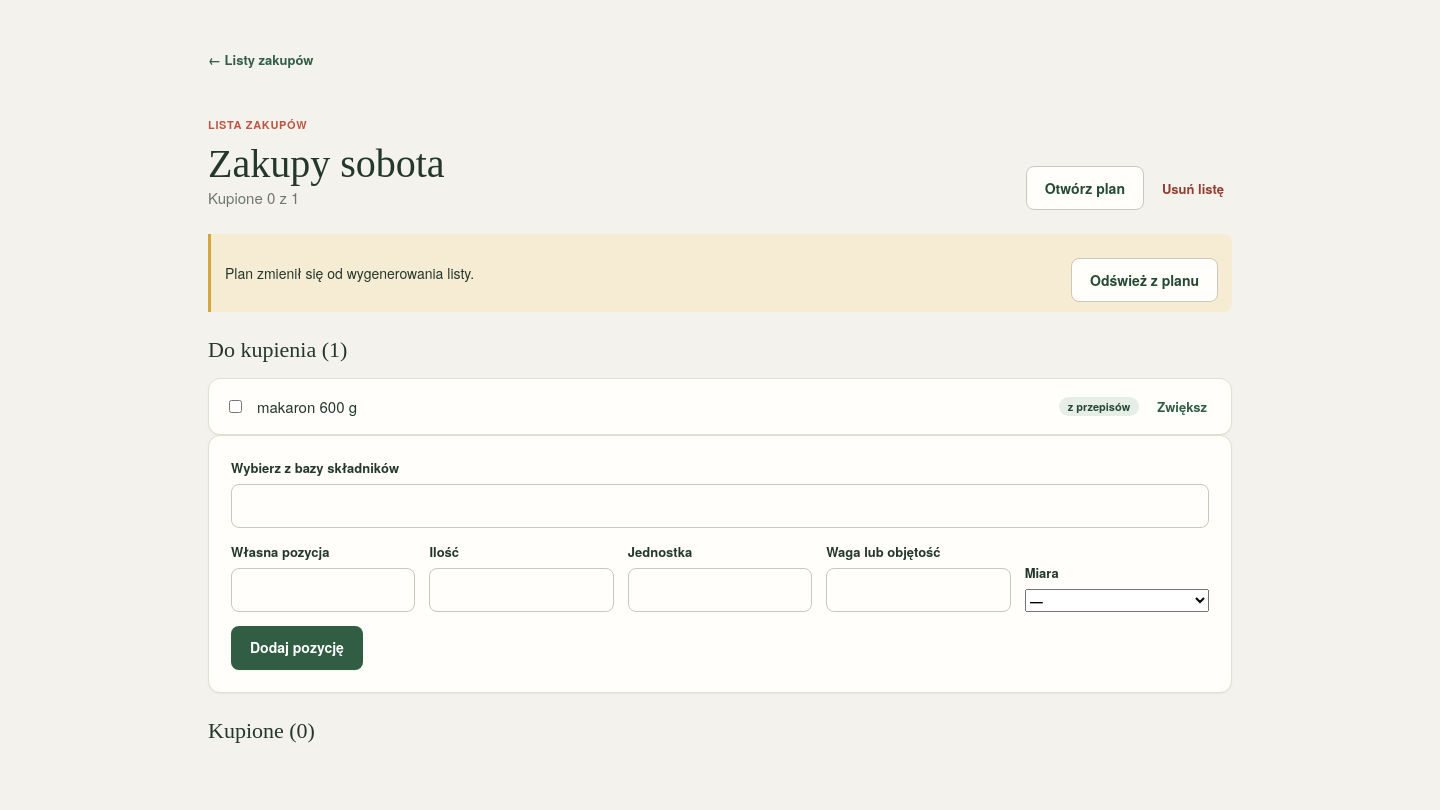
Test case: shopping list view › keeps the saved list and shows an error when the refresh fails
What coordinates should you click on to do the following:
click the button "Odśwież z planu"
I would click on:
 (1145, 280)
Its box is [1071,258,1218,302].
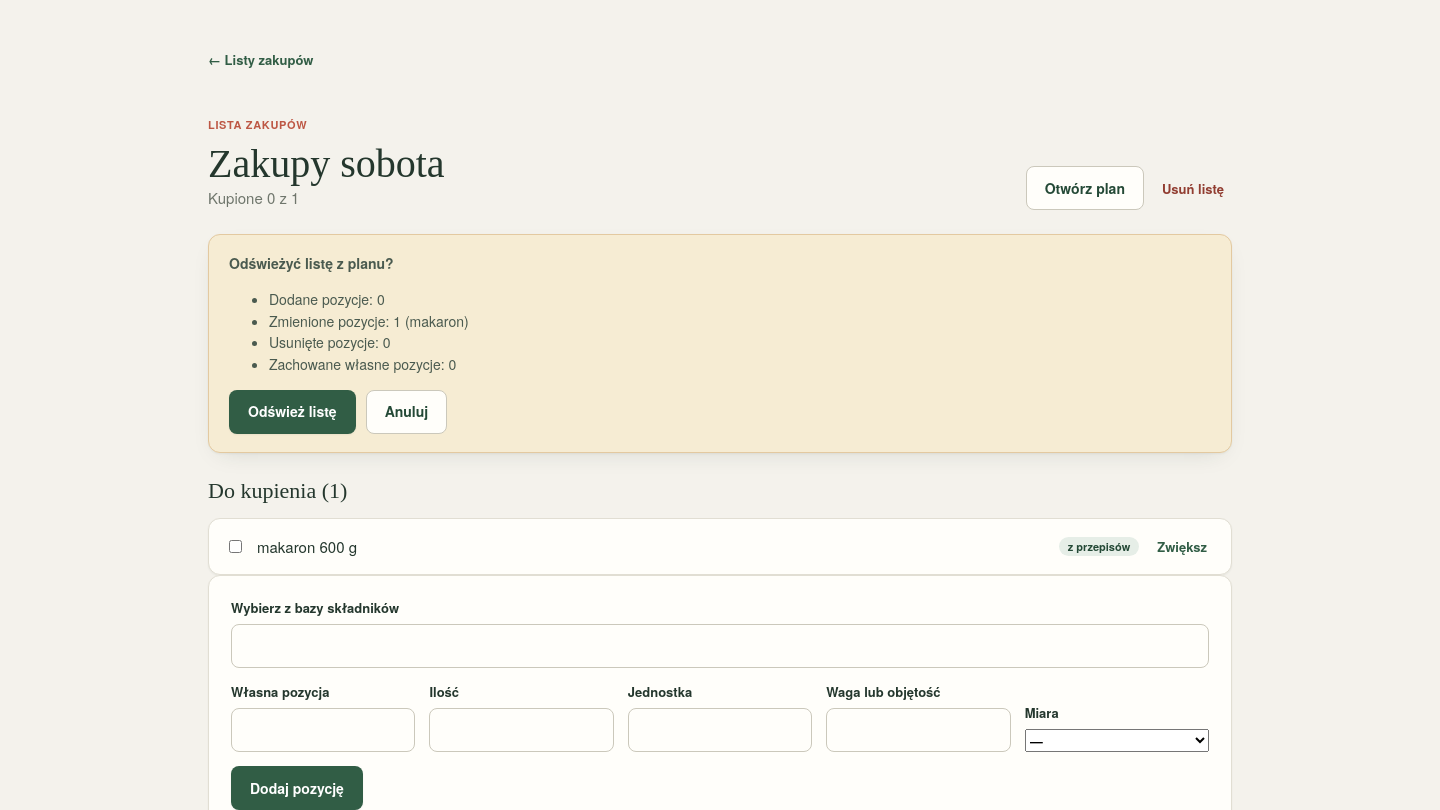
What coordinates should you click on to do the following:
click the button "Odśwież listę"
I would click on:
 (292, 412)
Its box is [229,390,356,434].
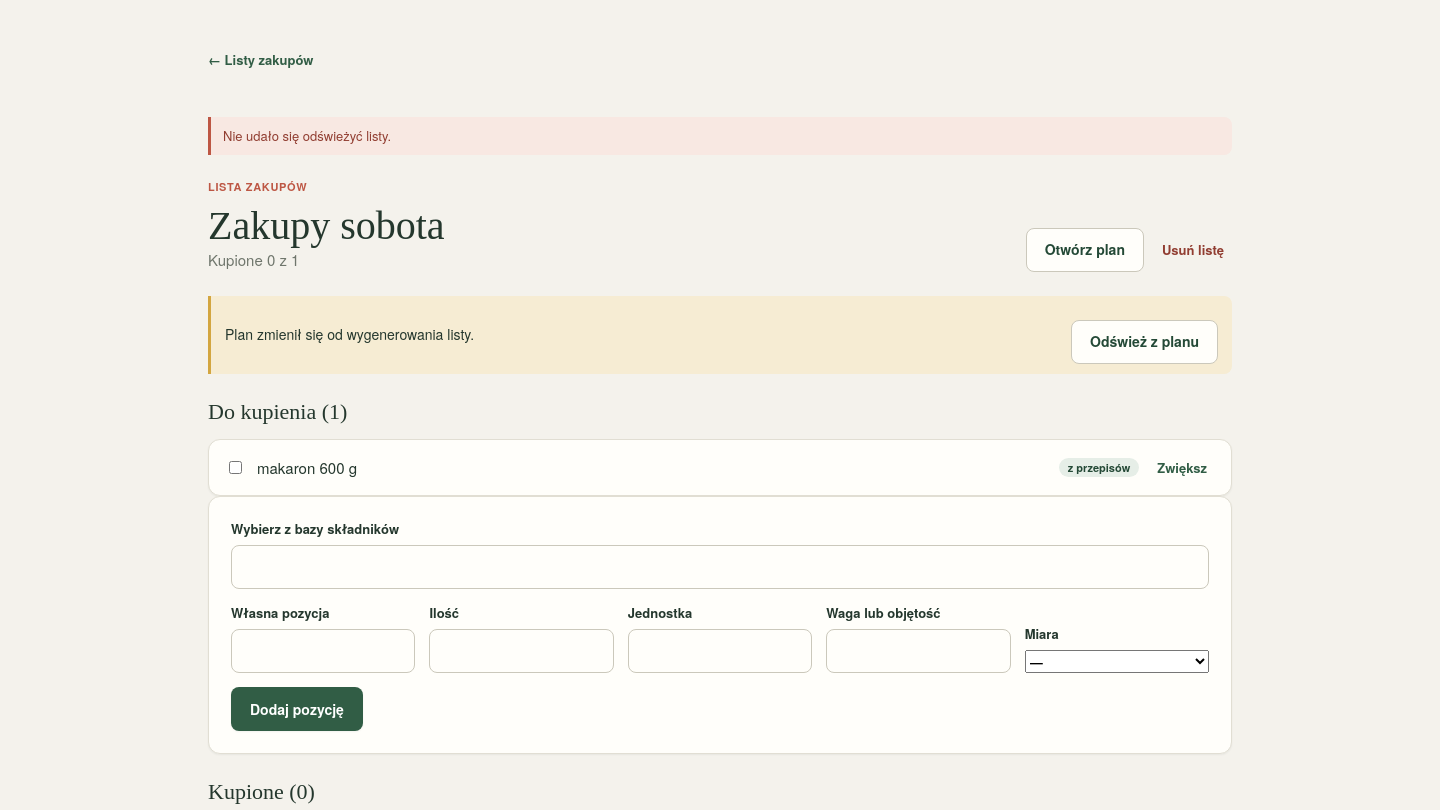
Expected: the text "makaron 600 g" is shown, [257,457,357,478]
Result: the message reads "Nie udało się odświeżyć listy." at [223,126,391,145]
